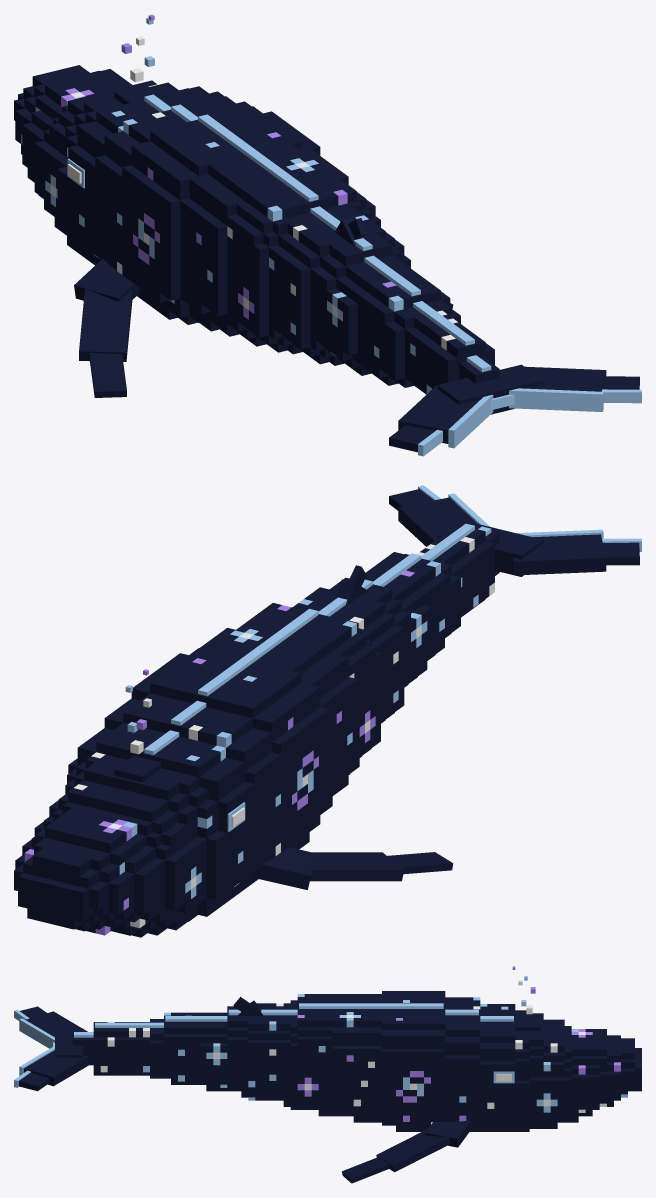
The model's file is VoidWhale.obj.
The picture shows the model from 3 angles, top to bottom: view 1: azimuth 30°, elevation 25°; view 2: azimuth 150°, elevation 25°; view 3: azimuth 270°, elevation 25°; orthographic projection. The views are drawn at different scales.
Visible parts, largest first — view 1: S2, S1, Head, S3, Fluke, S4, S5, FlipperL, S6, Tail; view 2: Head, S1, S2, S3, Fluke, FlipperL, S5, S4, S6; view 3: Head, S1, S2, S3, S4, Fluke, S5, S6, FlipperR, Tail.
Boxes of the visible parts, x1=… form: S2: x1=160, y1=134, x2=348, y2=346; S1: x1=95, y1=96, x2=308, y2=324; Head: x1=14, y1=65, x2=224, y2=265; S3: x1=238, y1=179, x2=404, y2=364; Fluke: x1=389, y1=364, x2=641, y2=456; S4: x1=310, y1=233, x2=413, y2=375; S5: x1=358, y1=271, x2=460, y2=387; FlipperL: x1=74, y1=258, x2=139, y2=397; S6: x1=405, y1=309, x2=494, y2=394; Tail: x1=459, y1=355, x2=499, y2=383; Head: x1=14, y1=723, x2=254, y2=937; S1: x1=104, y1=656, x2=318, y2=888; S2: x1=170, y1=614, x2=359, y2=831; S3: x1=257, y1=565, x2=404, y2=757; Fluke: x1=389, y1=485, x2=641, y2=576; FlipperL: x1=249, y1=847, x2=453, y2=889; S5: x1=367, y1=552, x2=460, y2=660; S4: x1=330, y1=571, x2=432, y2=687; S6: x1=417, y1=523, x2=494, y2=617; Head: x1=480, y1=1004, x2=641, y2=1131; S1: x1=396, y1=991, x2=480, y2=1131; S2: x1=318, y1=991, x2=395, y2=1125; S3: x1=233, y1=994, x2=318, y2=1109; S4: x1=199, y1=1006, x2=248, y2=1097; Fluke: x1=14, y1=1006, x2=88, y2=1091; S5: x1=150, y1=1012, x2=199, y2=1084; S6: x1=93, y1=1022, x2=149, y2=1075; FlipperR: x1=342, y1=1120, x2=473, y2=1183; Tail: x1=72, y1=1032, x2=93, y2=1065.
Bounding box in the file's own units: 19.18 × 12.62 × 44.67.
Materials: 1 (1 with a texture image).
